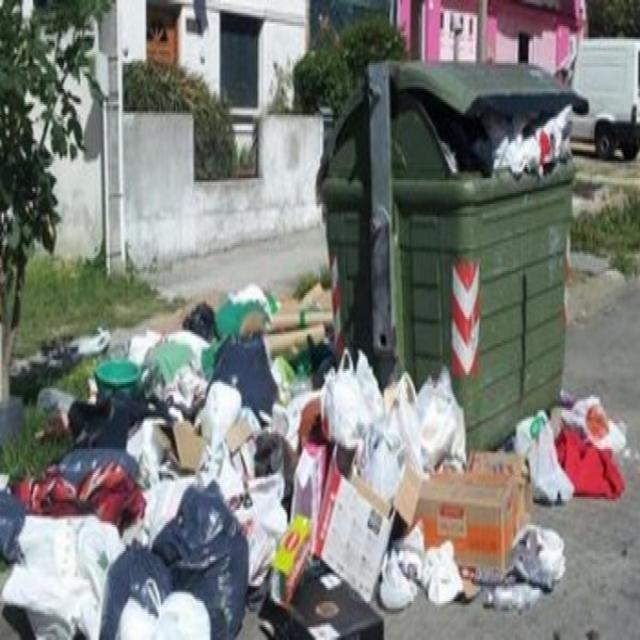garbage: (2, 295, 622, 638), (465, 96, 576, 169)
